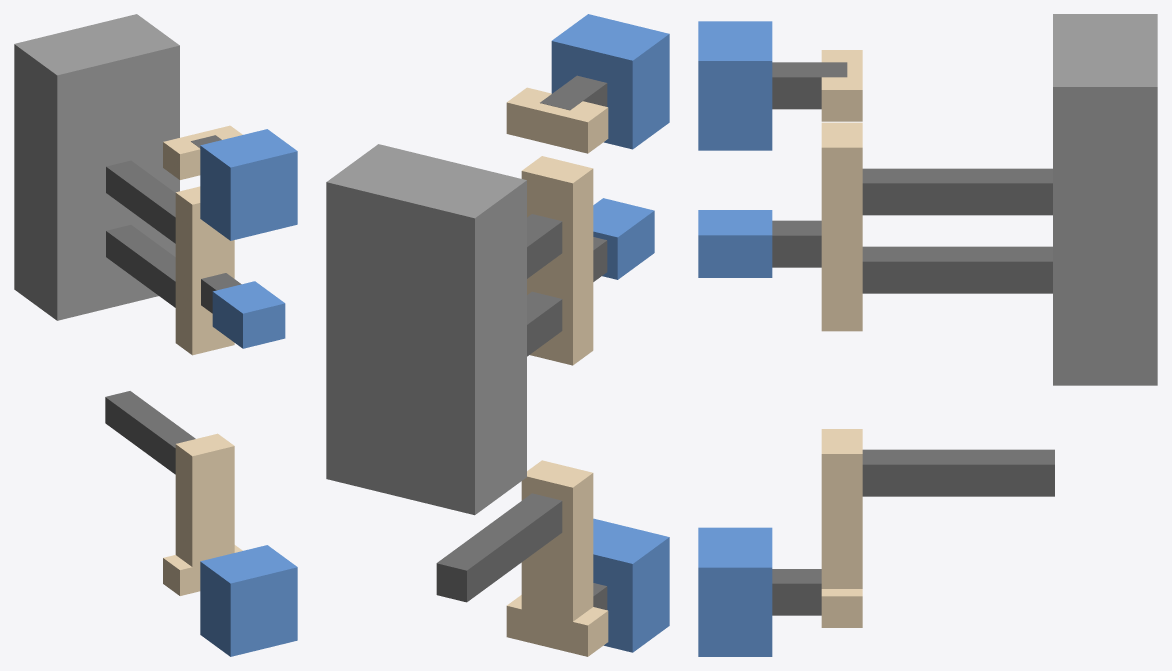
File: sky130_fd_sc_hd__tapvgnd2_1.gds.gltf
The picture shows the model from 3 angles, left to right: view 1: azimuth 30°, elevation 25°; view 2: azimuth 150°, elevation 25°; view 3: azimuth 270°, elevation 25°; orthographic projection. The views are drawn at different scales.
Visible parts, largest first — view 1: sky130_fd_sc_hd__tapvgnd2_1_nwell, sky130_fd_sc_hd__tapvgnd2_1_met1, sky130_fd_sc_hd__tapvgnd2_1_li1, sky130_fd_sc_hd__tapvgnd2_1_licon, sky130_fd_sc_hd__tapvgnd2_1_mcon; view 2: sky130_fd_sc_hd__tapvgnd2_1_nwell, sky130_fd_sc_hd__tapvgnd2_1_li1, sky130_fd_sc_hd__tapvgnd2_1_met1, sky130_fd_sc_hd__tapvgnd2_1_licon, sky130_fd_sc_hd__tapvgnd2_1_mcon; view 3: sky130_fd_sc_hd__tapvgnd2_1_nwell, sky130_fd_sc_hd__tapvgnd2_1_licon, sky130_fd_sc_hd__tapvgnd2_1_met1, sky130_fd_sc_hd__tapvgnd2_1_li1, sky130_fd_sc_hd__tapvgnd2_1_mcon.
Boxes of the visible parts, <box> form: sky130_fd_sc_hd__tapvgnd2_1_nwell: <box>14,14,179,320</box>; sky130_fd_sc_hd__tapvgnd2_1_met1: <box>200,129,297,656</box>; sky130_fd_sc_hd__tapvgnd2_1_li1: <box>163,125,242,595</box>; sky130_fd_sc_hd__tapvgnd2_1_licon: <box>105,160,195,474</box>; sky130_fd_sc_hd__tapvgnd2_1_mcon: <box>191,135,241,313</box>; sky130_fd_sc_hd__tapvgnd2_1_nwell: <box>326,144,526,515</box>; sky130_fd_sc_hd__tapvgnd2_1_li1: <box>506,87,608,656</box>; sky130_fd_sc_hd__tapvgnd2_1_met1: <box>551,14,669,652</box>; sky130_fd_sc_hd__tapvgnd2_1_licon: <box>436,214,562,602</box>; sky130_fd_sc_hd__tapvgnd2_1_mcon: <box>540,75,607,609</box>; sky130_fd_sc_hd__tapvgnd2_1_nwell: <box>1053,14,1157,385</box>; sky130_fd_sc_hd__tapvgnd2_1_licon: <box>862,168,1054,496</box>; sky130_fd_sc_hd__tapvgnd2_1_met1: <box>698,21,772,656</box>; sky130_fd_sc_hd__tapvgnd2_1_li1: <box>821,50,862,627</box>; sky130_fd_sc_hd__tapvgnd2_1_mcon: <box>772,62,847,615</box>.
Size of the model in its own units: 0.84 by 3.2 by 2.24.
